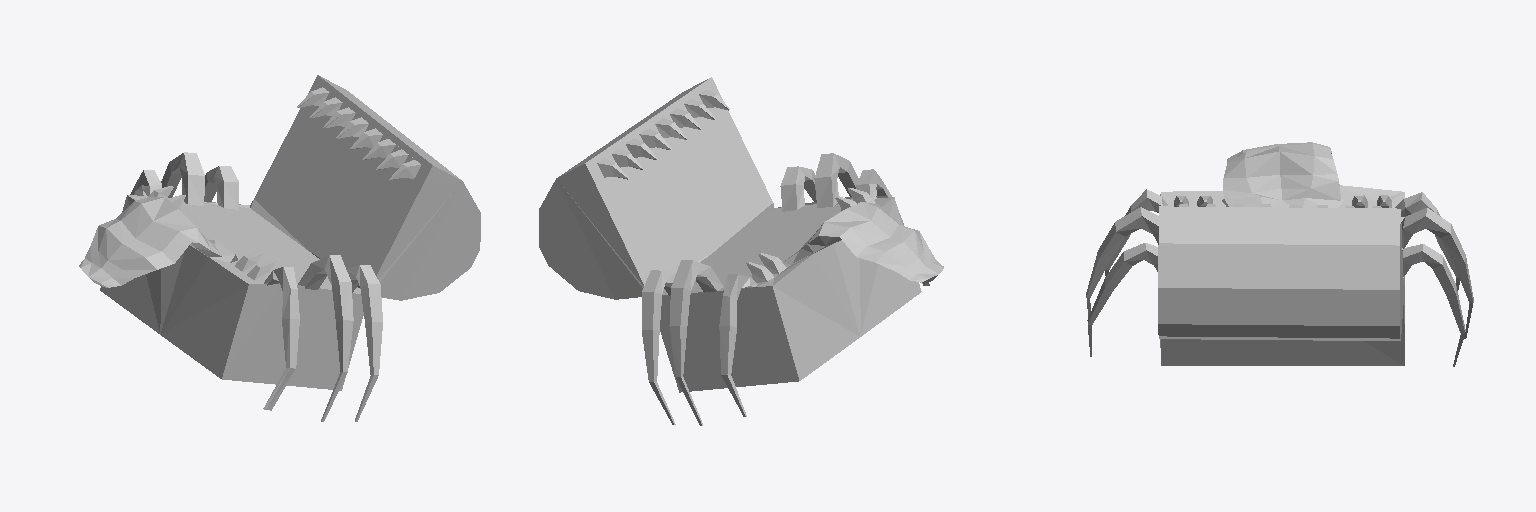
File: cofrearana_000006.obj
The picture shows the model from 3 angles: view 1: azimuth 30°, elevation 25°; view 2: azimuth 150°, elevation 25°; view 3: azimuth 270°, elevation 25°; orthographic projection.
Parts seen in each view (by area): view 1: cofreArana:Mesh; view 2: cofreArana:Mesh; view 3: cofreArana:Mesh.
Boxes of the visible parts, x1,y1,x2,y2 form: cofreArana:Mesh: [79, 75, 480, 421]; cofreArana:Mesh: [539, 77, 943, 425]; cofreArana:Mesh: [1086, 142, 1473, 366].
Size of the model in its own units: 10.16 by 6.14 by 10.07.